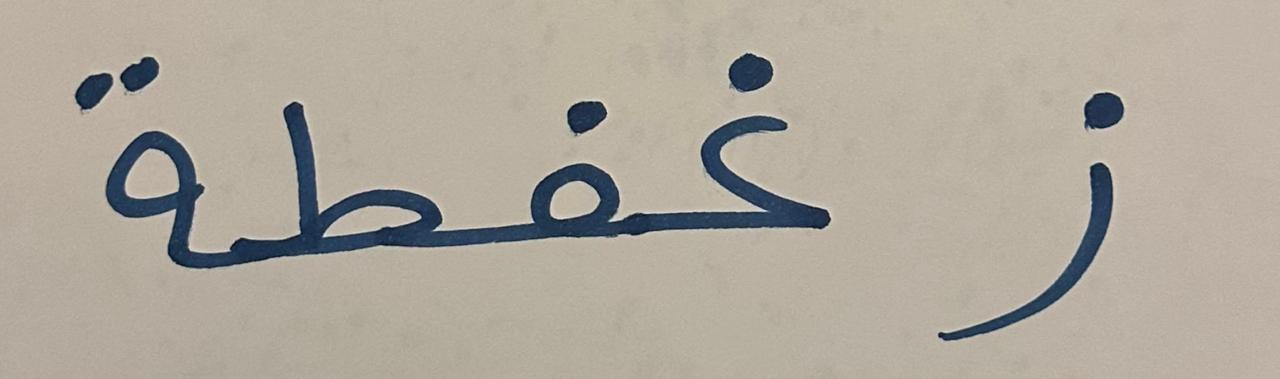feh: (472, 40, 652, 291)
ghain: (658, 17, 899, 284)
hamza: (905, 33, 1211, 361)
teh: (214, 42, 468, 304)
thal: (53, 9, 211, 325)
